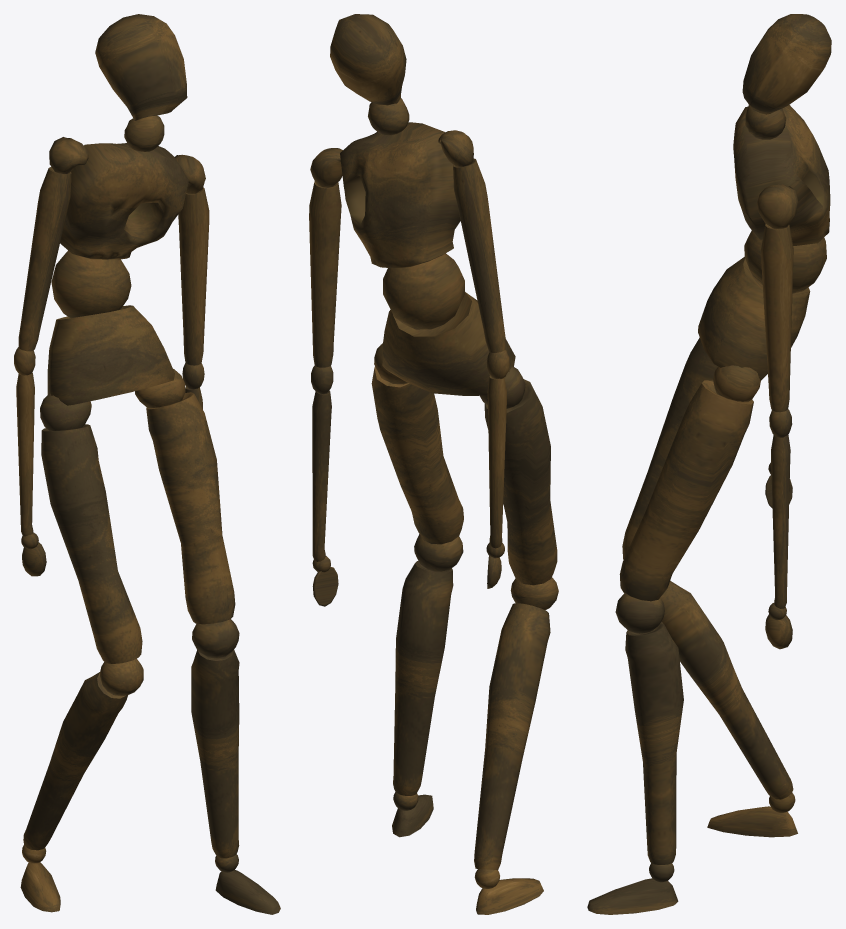
Rendered from maniqui_pose7.fbx.
3 renders of one model, left to right at view 1: azimuth 30°, elevation 25°; view 2: azimuth 150°, elevation 25°; view 3: azimuth 270°, elevation 25°, orthographic. The views are drawn at different scales.
Parts seen in each view (by area): view 1: dummy_obj.003; view 2: dummy_obj.003; view 3: dummy_obj.003.
Part boxes in pixels (box(x1,y1,x2,y2)): dummy_obj.003: box(14, 14, 280, 914); dummy_obj.003: box(309, 14, 558, 914); dummy_obj.003: box(587, 14, 831, 914).
Bounding box in the file's own units: 38.32 × 155 × 39.44.
